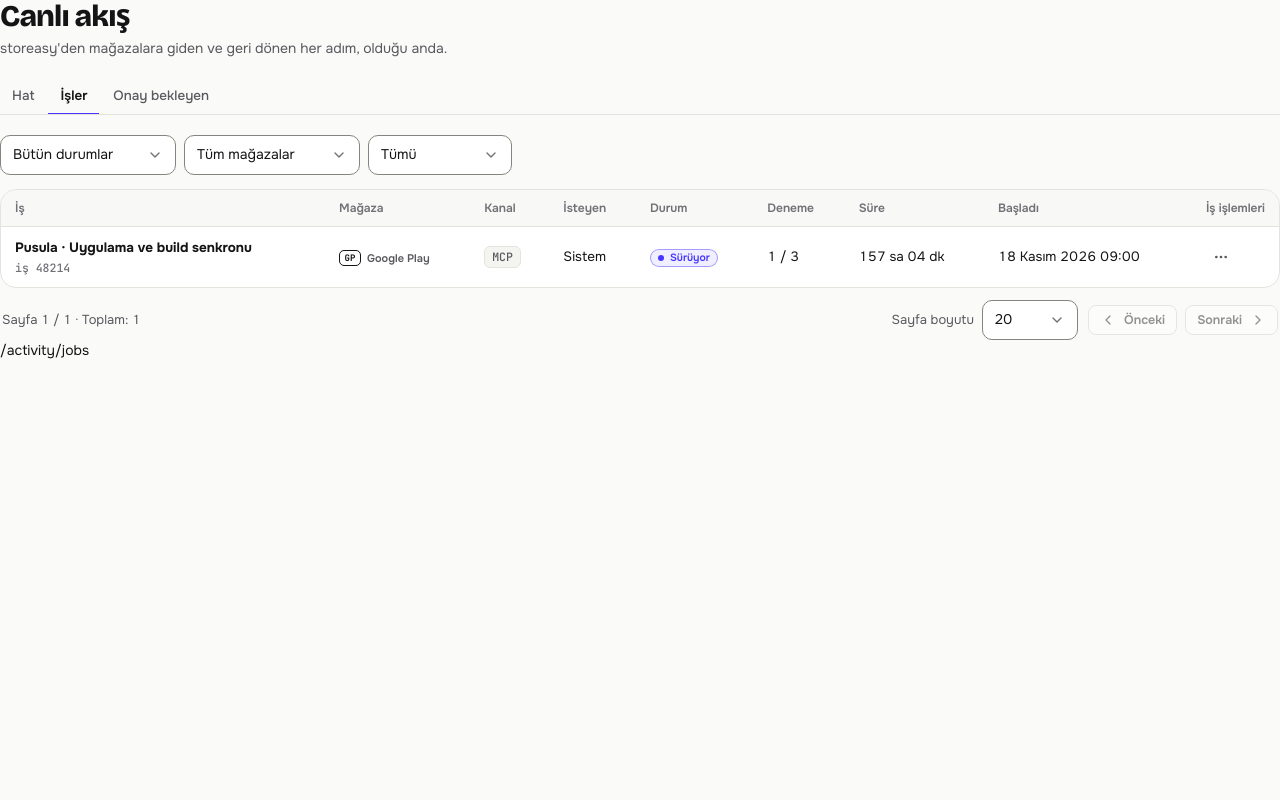
Test case: JobsPage › reports a job that finished meanwhile instead of an error
Step 1. Click the button named "İş işlemleri" → (1221, 257), box [1206, 242, 1236, 272]
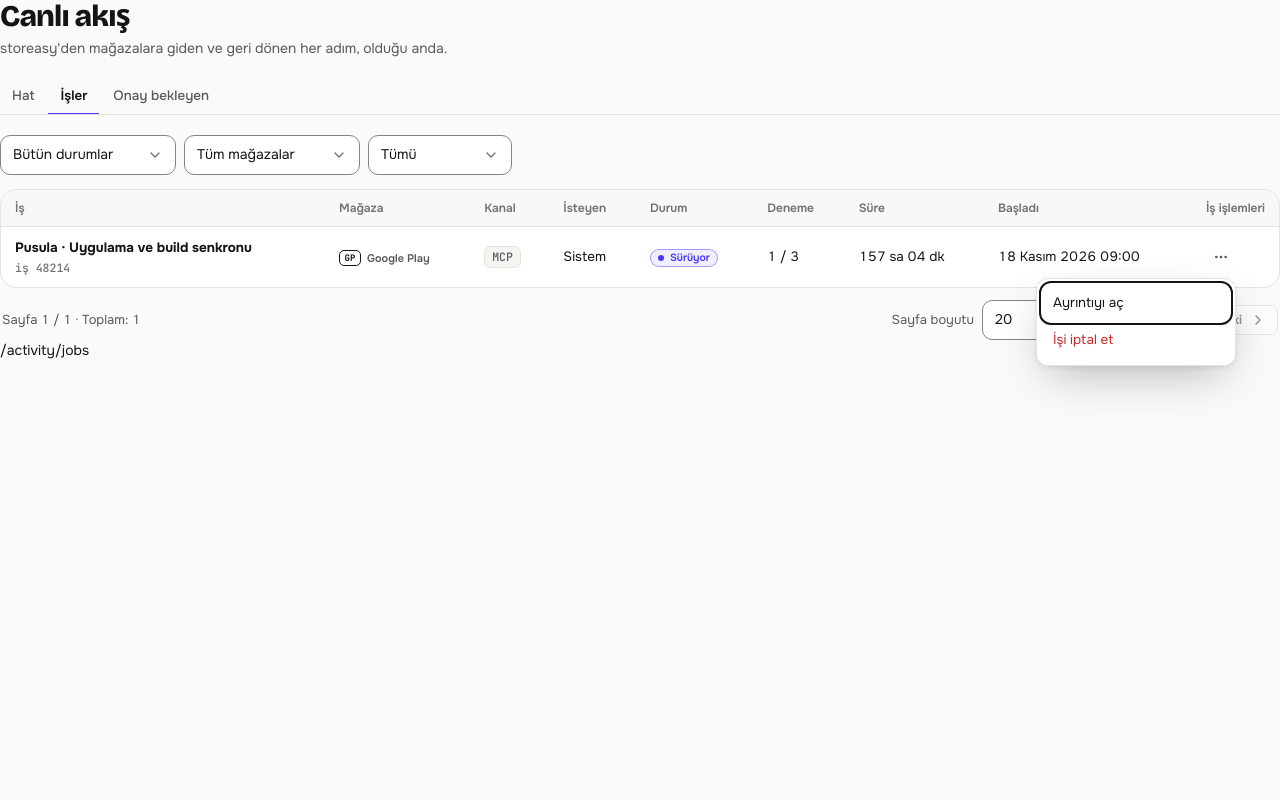
Step 2. Click the menu item "İşi iptal et" → (1136, 340), box [1043, 322, 1229, 359]
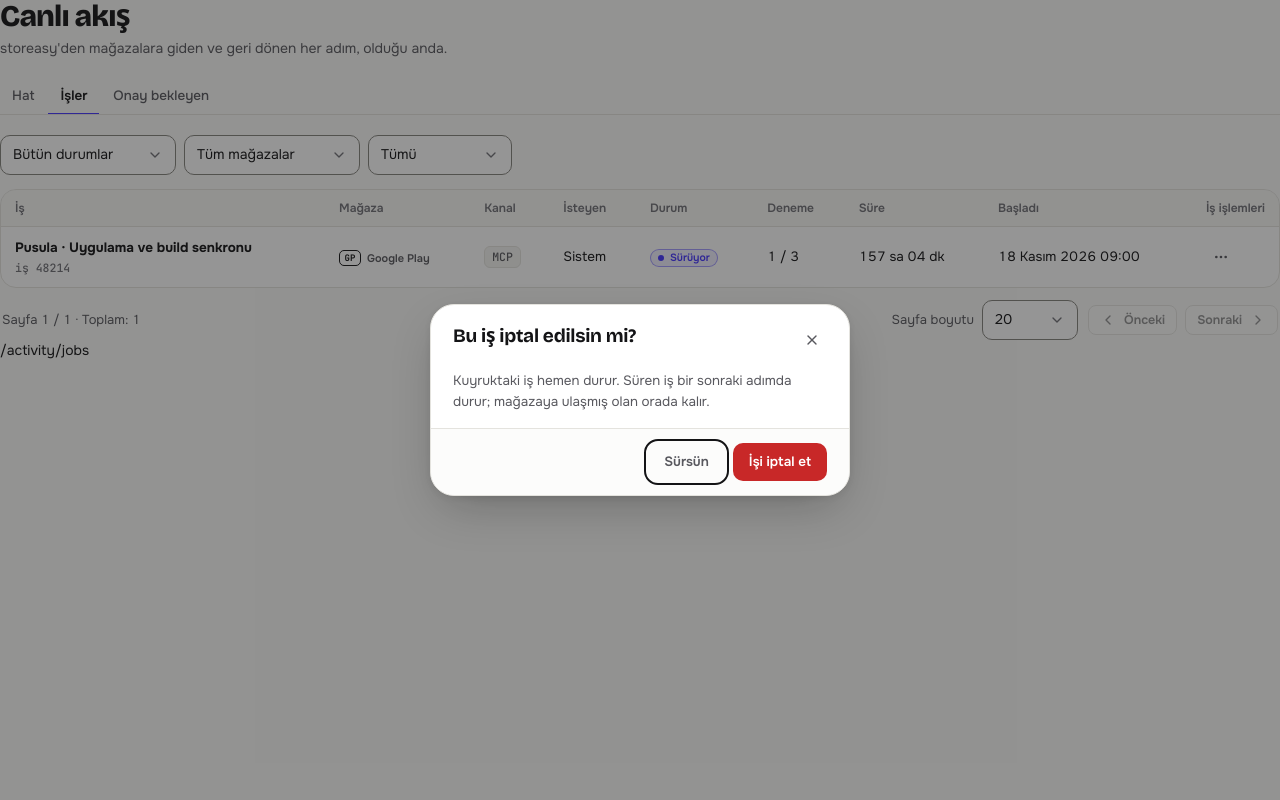
Step 3. Click the button "İşi iptal et" → (780, 462), box [733, 443, 827, 481]
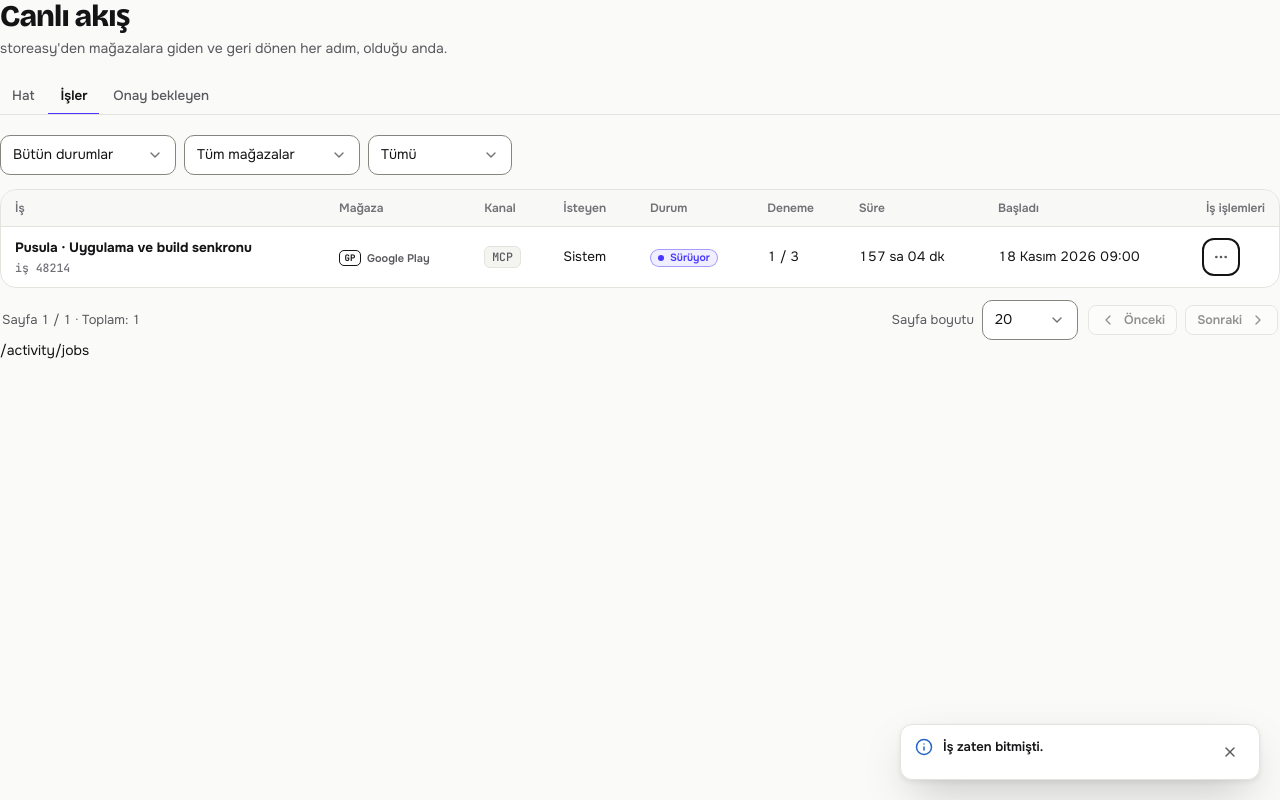
Result: the text "İş zaten bitmişti." is shown at [943, 738, 1043, 755]
